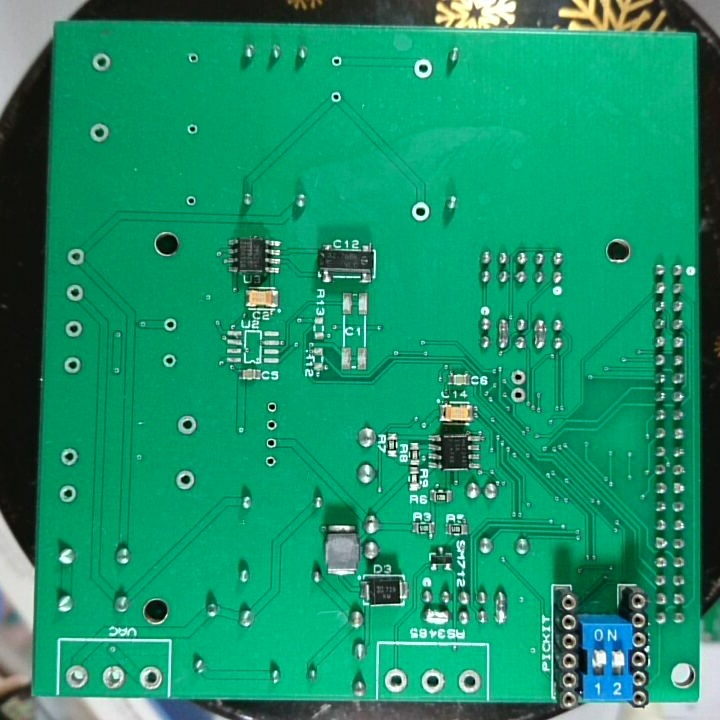F: (62, 661, 91, 691), (419, 668, 447, 697), (137, 663, 165, 692), (99, 663, 127, 692), (382, 665, 409, 695), (455, 667, 482, 695), (411, 55, 437, 84), (87, 119, 114, 146), (171, 467, 199, 493), (88, 51, 115, 76), (409, 198, 432, 227), (56, 481, 82, 506), (174, 412, 198, 438), (61, 352, 85, 378), (62, 282, 88, 305), (62, 318, 85, 343), (65, 246, 87, 268), (58, 445, 79, 468), (508, 383, 528, 405), (159, 351, 178, 372), (508, 368, 528, 386), (183, 120, 201, 140), (329, 52, 347, 72), (264, 398, 282, 418), (161, 316, 180, 334), (262, 416, 281, 434), (184, 49, 202, 67), (328, 88, 344, 107), (263, 452, 279, 471), (263, 434, 279, 452), (182, 194, 199, 209)
P: (419, 605, 454, 626), (492, 587, 509, 626), (531, 315, 547, 352), (495, 314, 511, 349)
